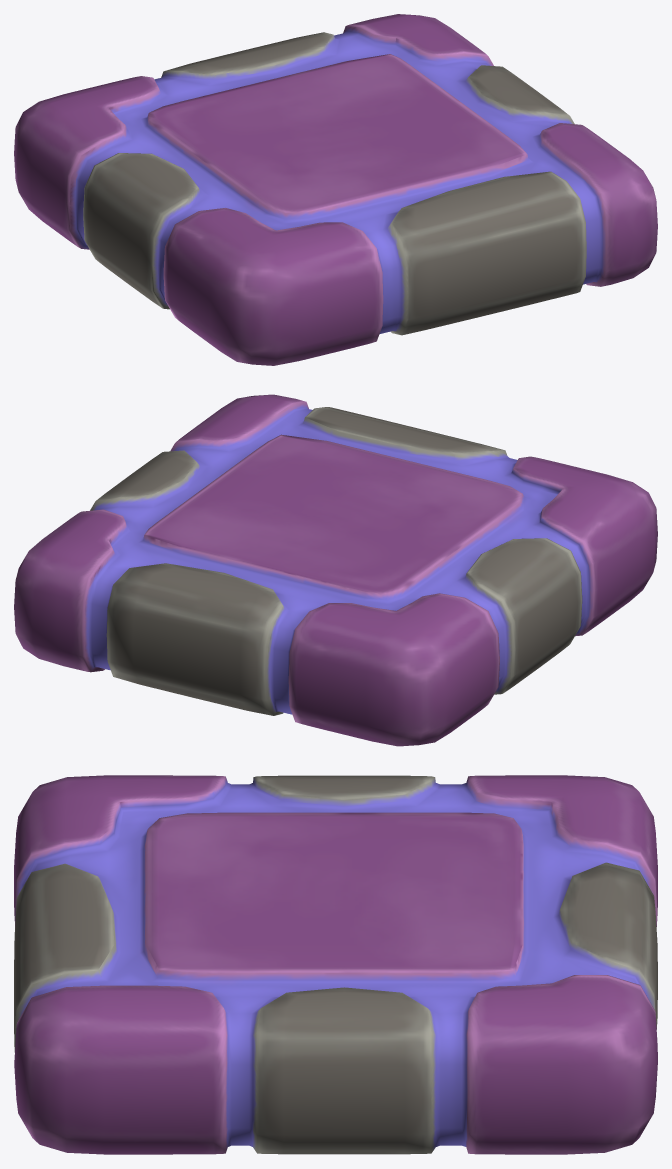
The model's file is arena block 6.fbx.
3 views of the same model, one above another, from view 1: azimuth 30°, elevation 25°; view 2: azimuth 150°, elevation 25°; view 3: azimuth 270°, elevation 25° (orthographic). The views are drawn at different scales.
Visible parts, largest first — view 1: arena block 6 lp.001; view 2: arena block 6 lp.001; view 3: arena block 6 lp.001.
Part boxes in pixels (x1,y1,x2,y2): arena block 6 lp.001: [14, 14, 657, 365]; arena block 6 lp.001: [14, 394, 657, 746]; arena block 6 lp.001: [14, 775, 657, 1154].
Bounding box in the file's own units: 200 × 50 × 200.
